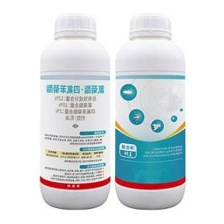insecticide: (37, 7, 114, 213), (112, 11, 189, 213)
